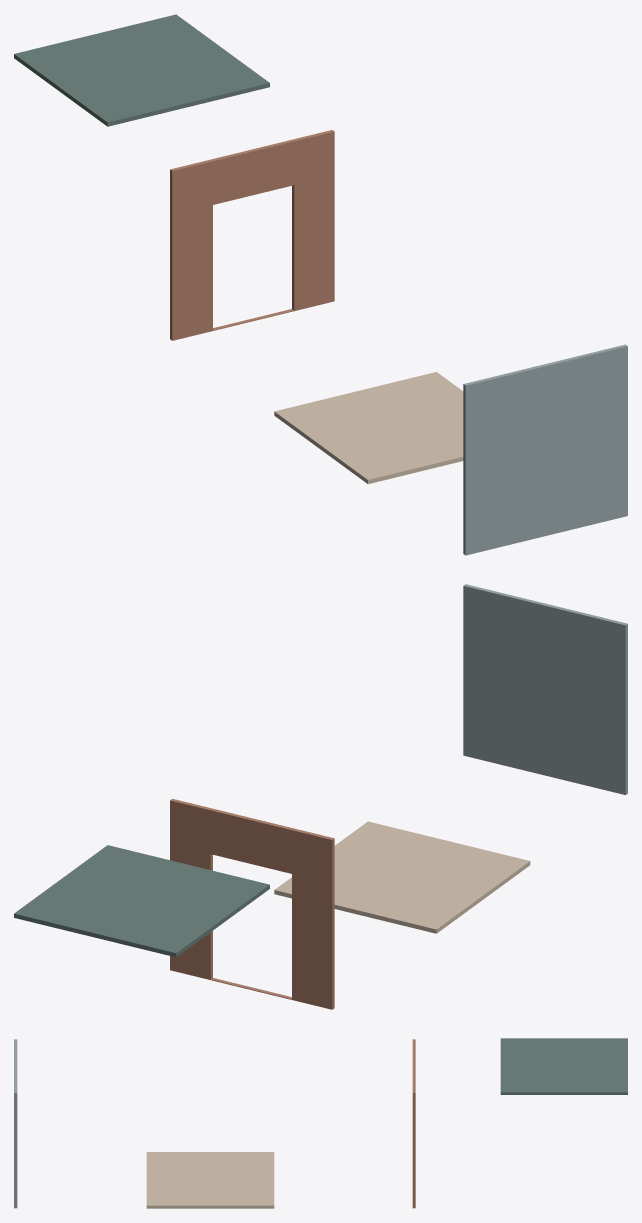
File: procedural-prefab.glb
3 views of the same model, one above another, from view 1: azimuth 30°, elevation 25°; view 2: azimuth 150°, elevation 25°; view 3: azimuth 270°, elevation 25° (orthographic). The views are drawn at different scales.
Visible parts, largest first — view 1: MUR_static, MUR_PORTE_static, PLAFOND_static, SOLE_static; view 2: MUR_static, PLAFOND_static, MUR_PORTE_static, SOLE_static; view 3: SOLE_static, PLAFOND_static, MUR_static, MUR_PORTE_static.
Part boxes in pixels (x1,y1,x2,y2): MUR_static: (463, 344, 627, 555); MUR_PORTE_static: (170, 130, 334, 340); PLAFOND_static: (14, 14, 269, 126); SOLE_static: (274, 372, 463, 483); MUR_static: (463, 584, 627, 794); PLAFOND_static: (14, 845, 269, 957); MUR_PORTE_static: (170, 799, 334, 1009); SOLE_static: (274, 821, 530, 933); SOLE_static: (146, 1152, 274, 1208); PLAFOND_static: (500, 1038, 627, 1094); MUR_static: (14, 1039, 17, 1208); MUR_PORTE_static: (412, 1039, 415, 1208).
Bounding box in the file's own units: 0.4977 × 0.5017 × 2.4.
